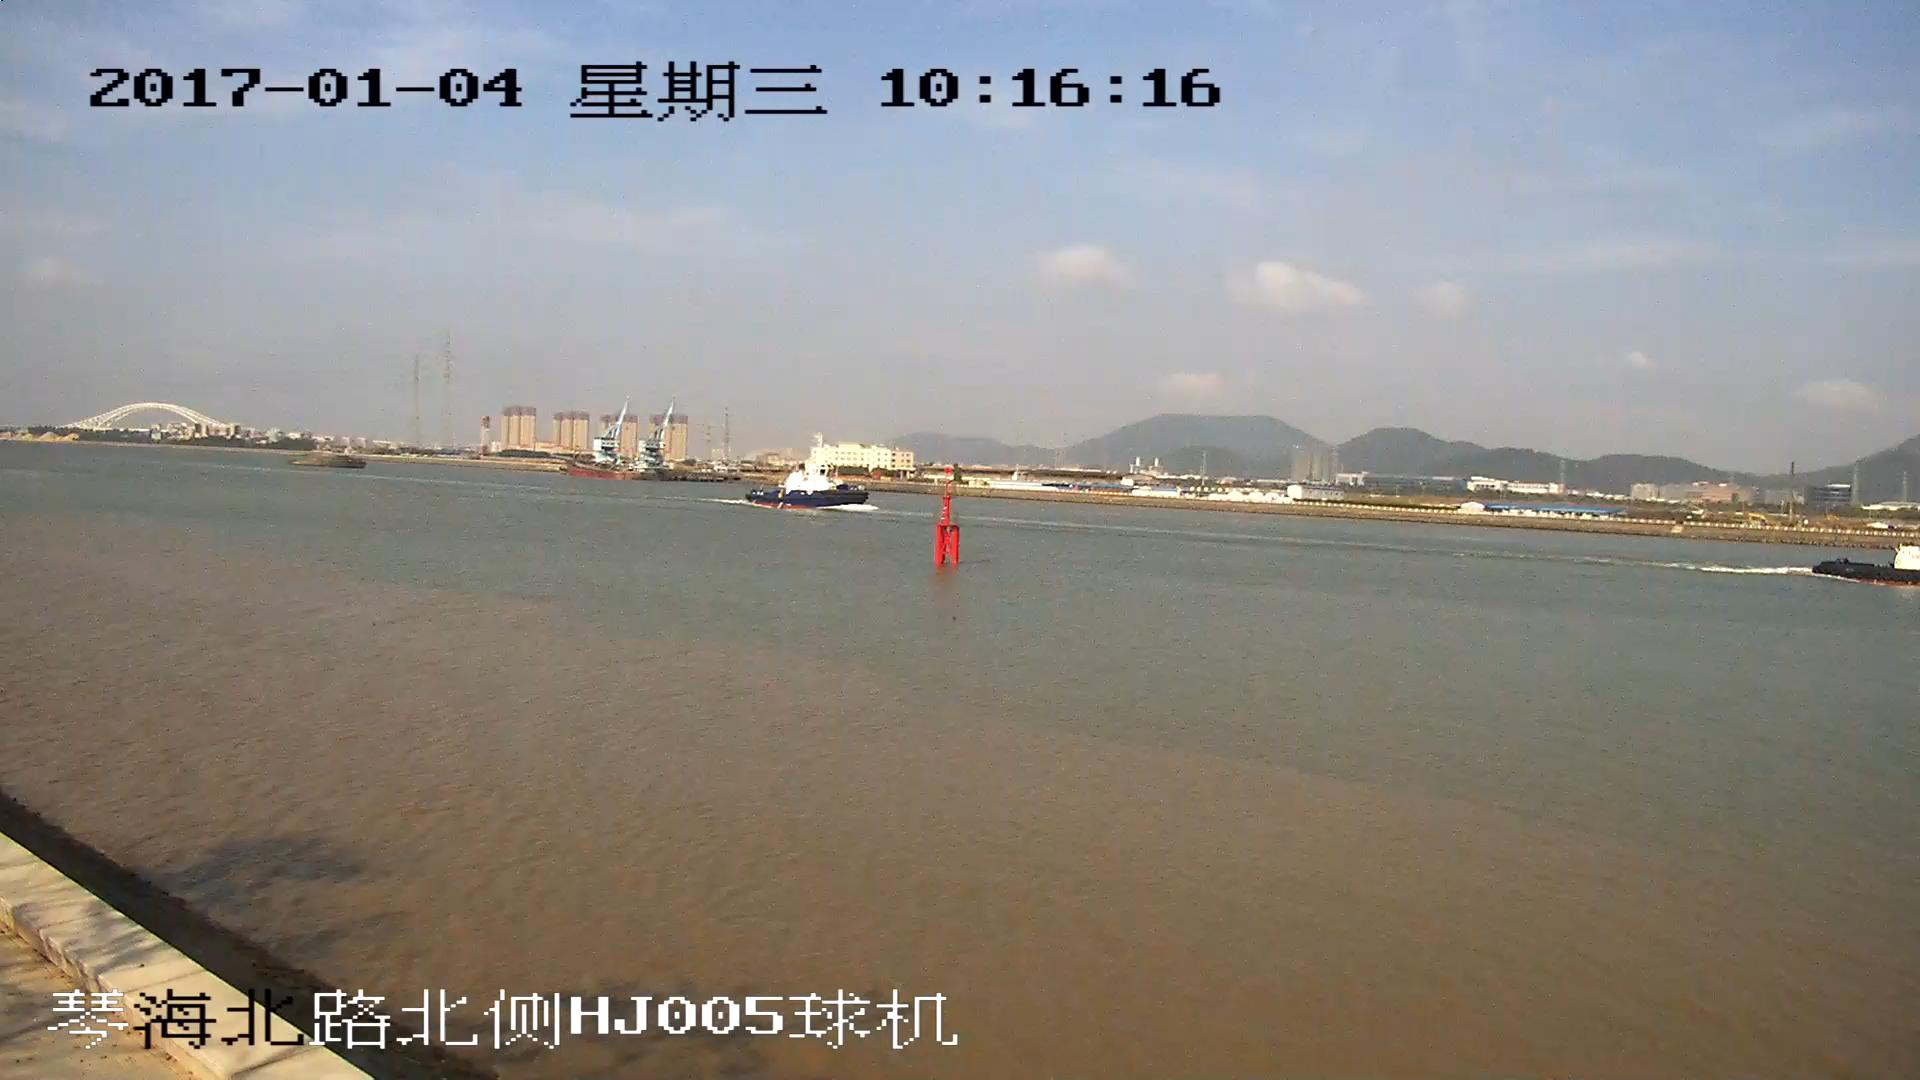fishing boat: (743, 438, 874, 504), (1815, 542, 1920, 584)
